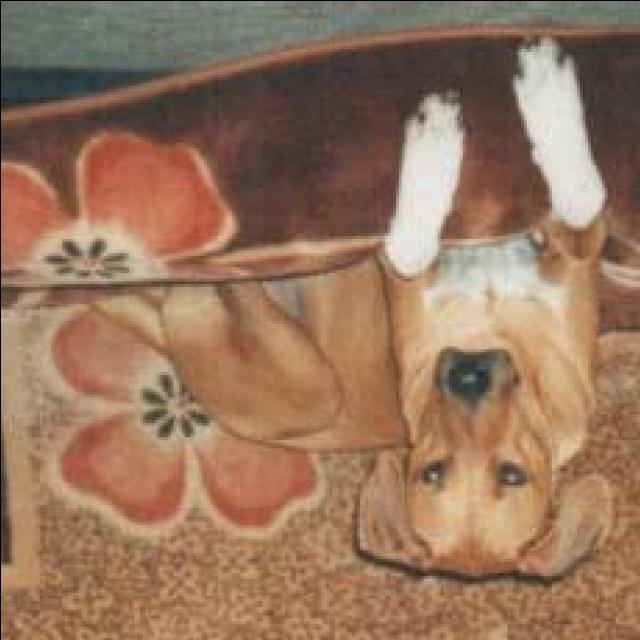rhodesian_ridgeback: (150, 28, 626, 592)
